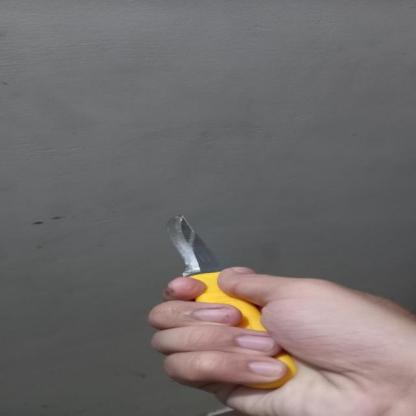Knife: (150, 205, 298, 389)
